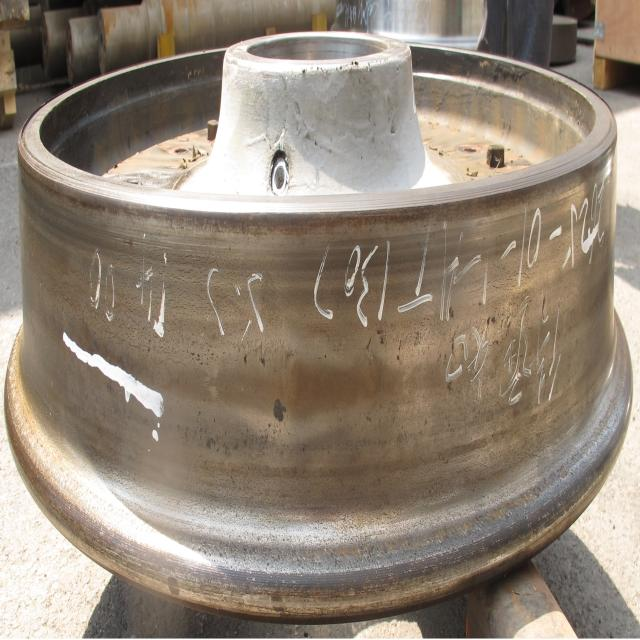Contact_Fatigue_Cracks: (236, 340, 292, 367)
